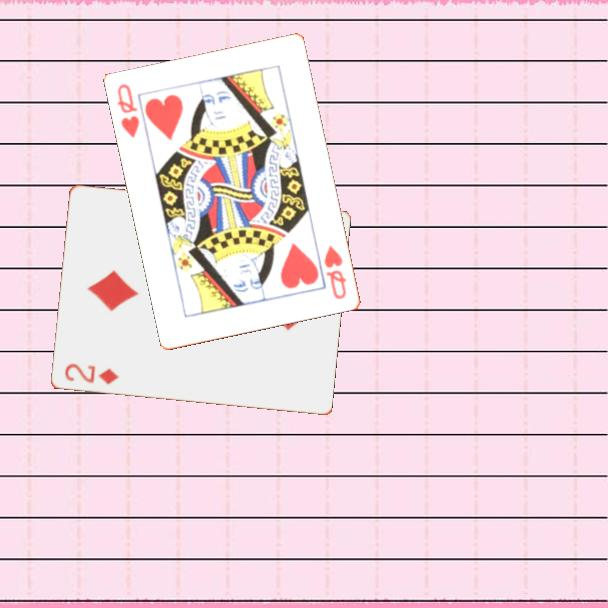d02: (61, 360, 121, 388)
h12: (114, 80, 143, 141), (321, 242, 349, 302)
